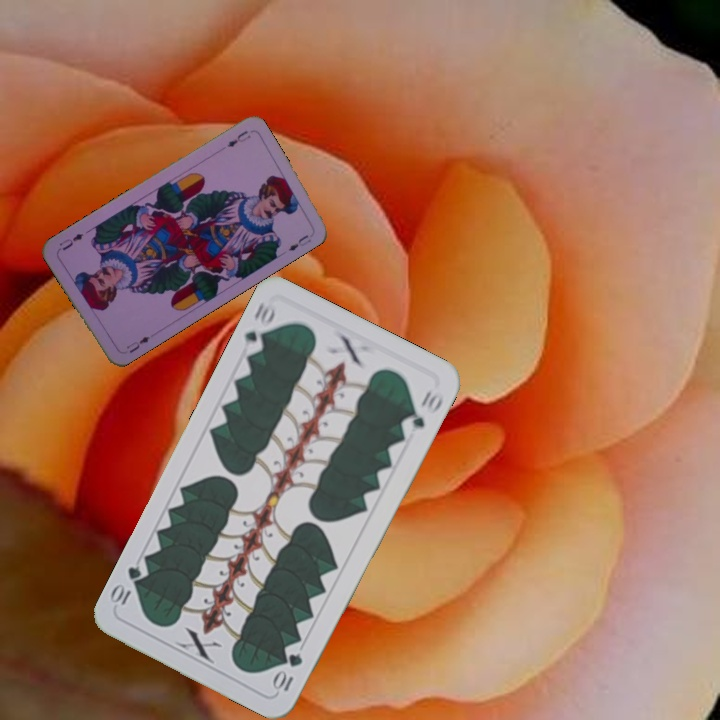EU: (122, 332, 153, 356), (223, 126, 253, 150)
G10: (239, 298, 278, 357), (270, 648, 306, 695)
